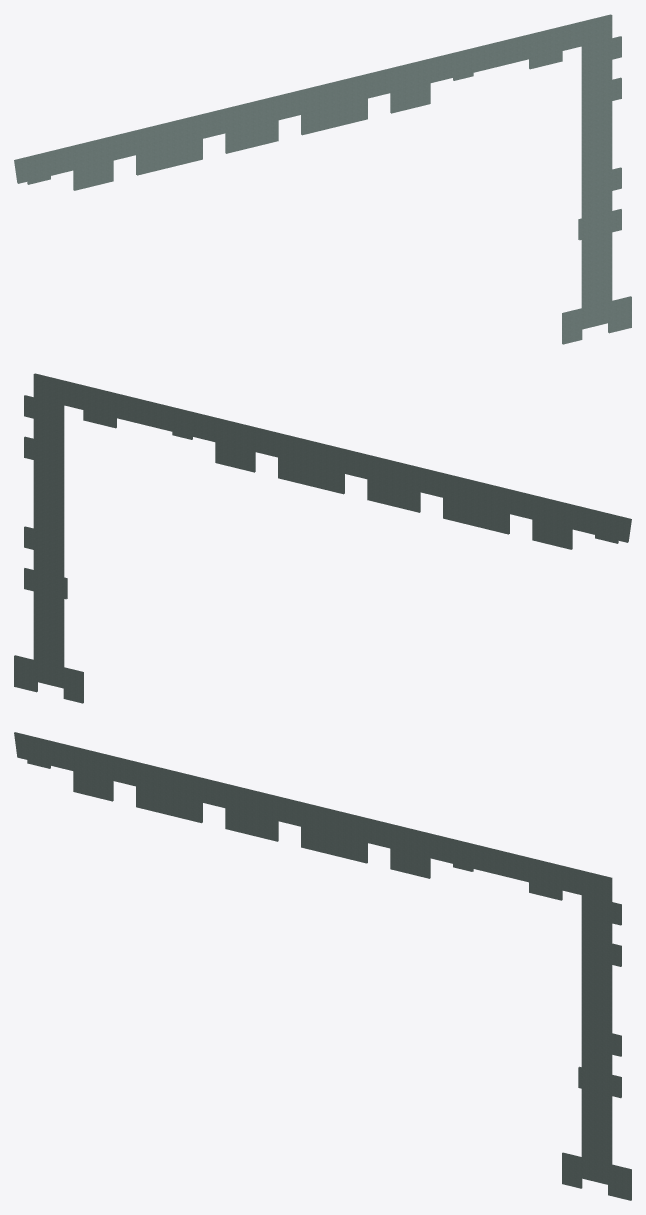
The model's file is floor_48.obj.
3 views of the same model, one above another, from view 1: azimuth 30°, elevation 25°; view 2: azimuth 150°, elevation 25°; view 3: azimuth 330°, elevation 25° (orthographic).
Visible parts, largest first — view 1: floor_48; view 2: floor_48; view 3: floor_48.
Part boxes in pixels (x1,y1,x2,y2): floor_48: (14,14,631,344); floor_48: (14,373,631,703); floor_48: (14,732,631,1200).
Bounding box in the file's own units: 46.75 × 23 × 0.1.
1 material, 1 textured.
